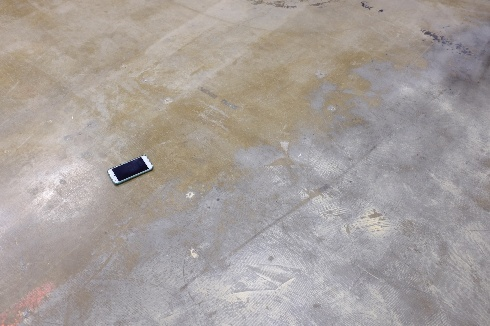phone: (106, 151, 155, 183)
